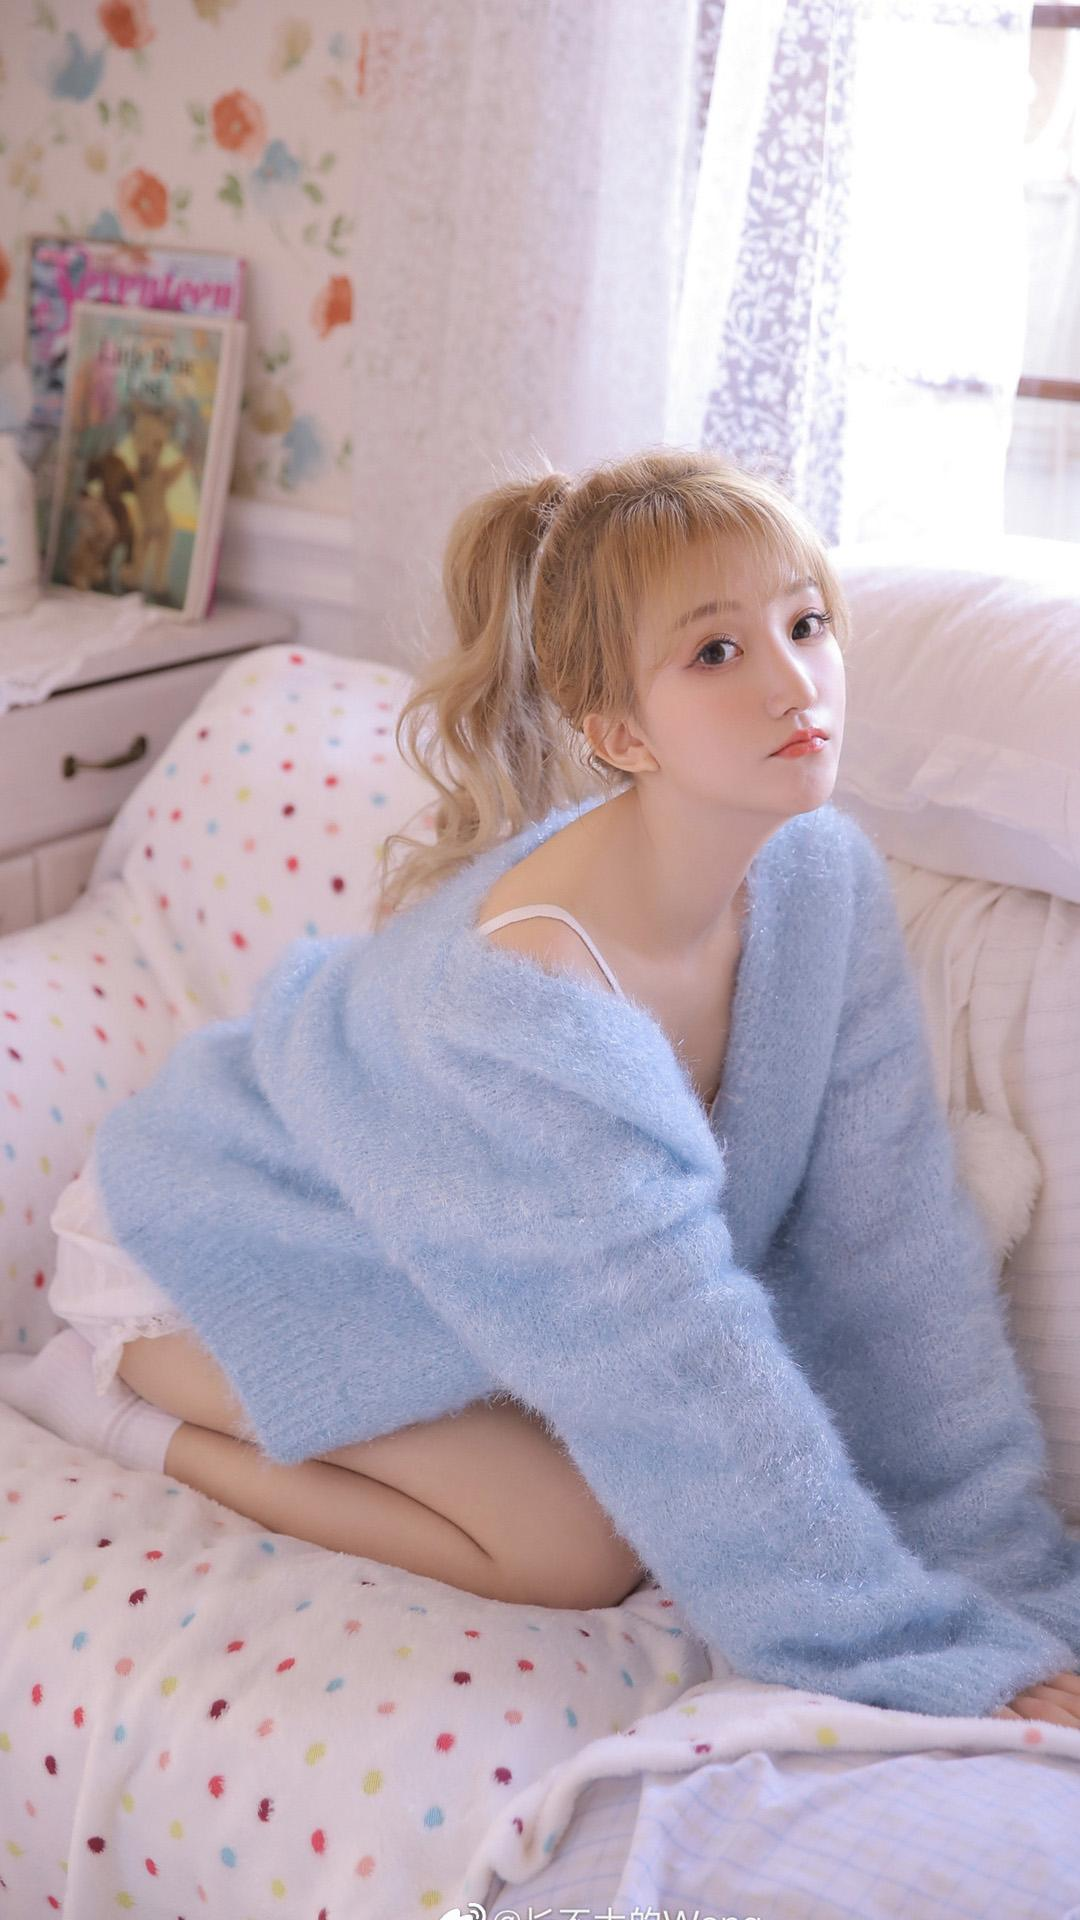person: (1, 318, 914, 1692)
